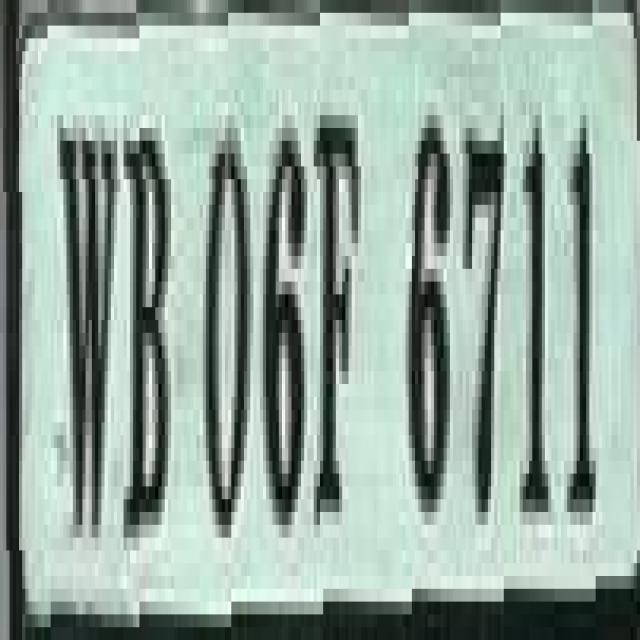license_plate: (0, 26, 621, 627)
